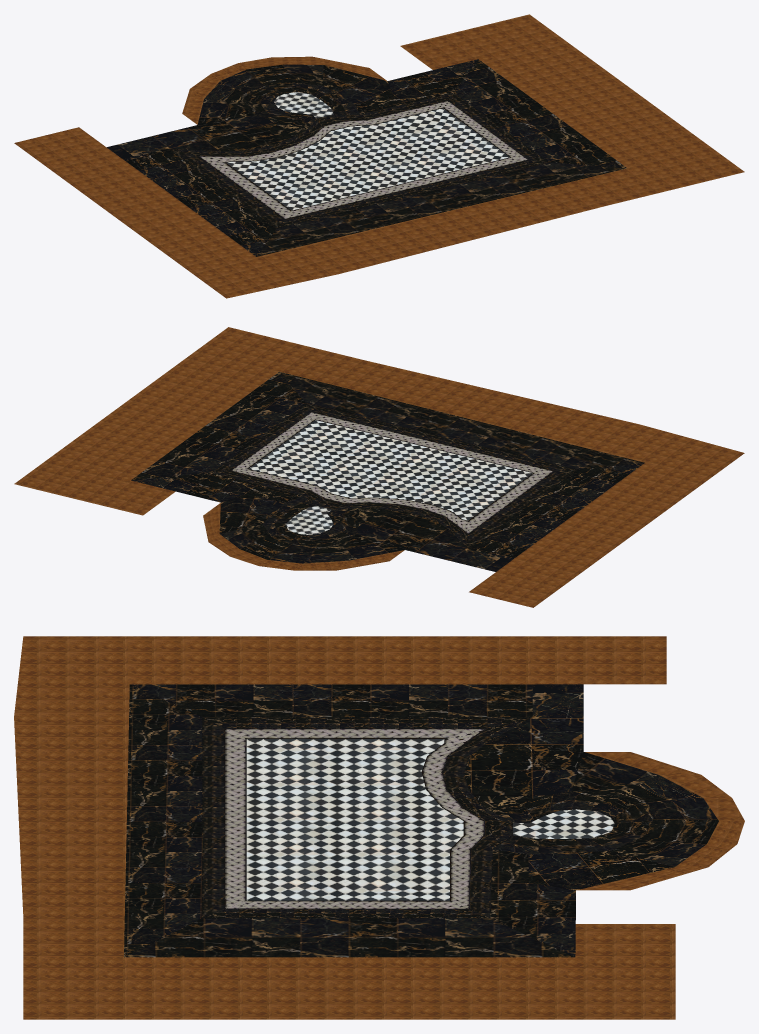
File: GreatroomFloorMain1.fbx
The picture shows the model from 3 angles, top to bottom: view 1: azimuth 30°, elevation 25°; view 2: azimuth 150°, elevation 25°; view 3: azimuth 270°, elevation 25°; orthographic projection. The views are drawn at different scales.
Parts seen in each view (by area): view 1: GreatroomMainfloor; view 2: GreatroomMainfloor; view 3: GreatroomMainfloor.
Part boxes in pixels (x1,y1,x2,y2): GreatroomMainfloor: [14, 14, 744, 298]; GreatroomMainfloor: [14, 327, 744, 607]; GreatroomMainfloor: [14, 636, 744, 1019].
Size of the model in its own units: 794 by 0.000161 by 640.
